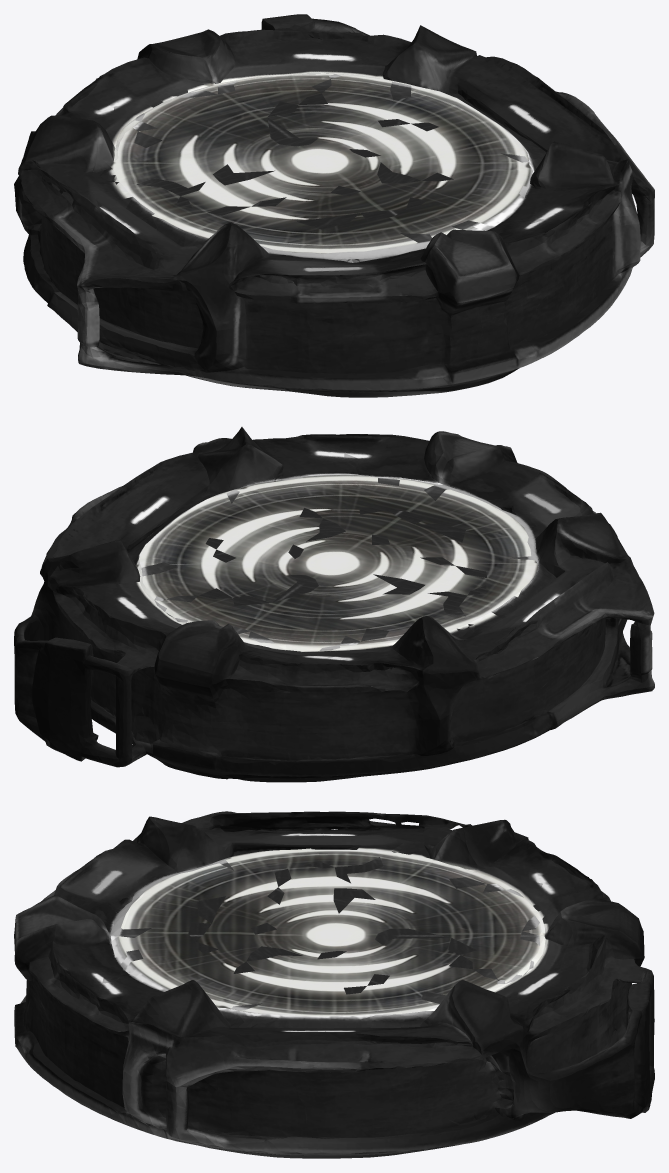
Rendered from ScreenWipePU.obj.
3 renders of one model, top to bottom at view 1: azimuth 30°, elevation 25°; view 2: azimuth 150°, elevation 25°; view 3: azimuth 270°, elevation 25°, orthographic. The views are drawn at different scales.
Parts seen in each view (by area): view 1: ScreenWipePU; view 2: ScreenWipePU; view 3: ScreenWipePU.
Part boxes in pixels (<box>): ScreenWipePU: <box>14,14,654,397</box>; ScreenWipePU: <box>14,427,654,782</box>; ScreenWipePU: <box>14,811,654,1158</box>.
Size of the model in its own units: 1.9 by 0.5048 by 1.94.
Materials: 1 (1 with a texture image).
